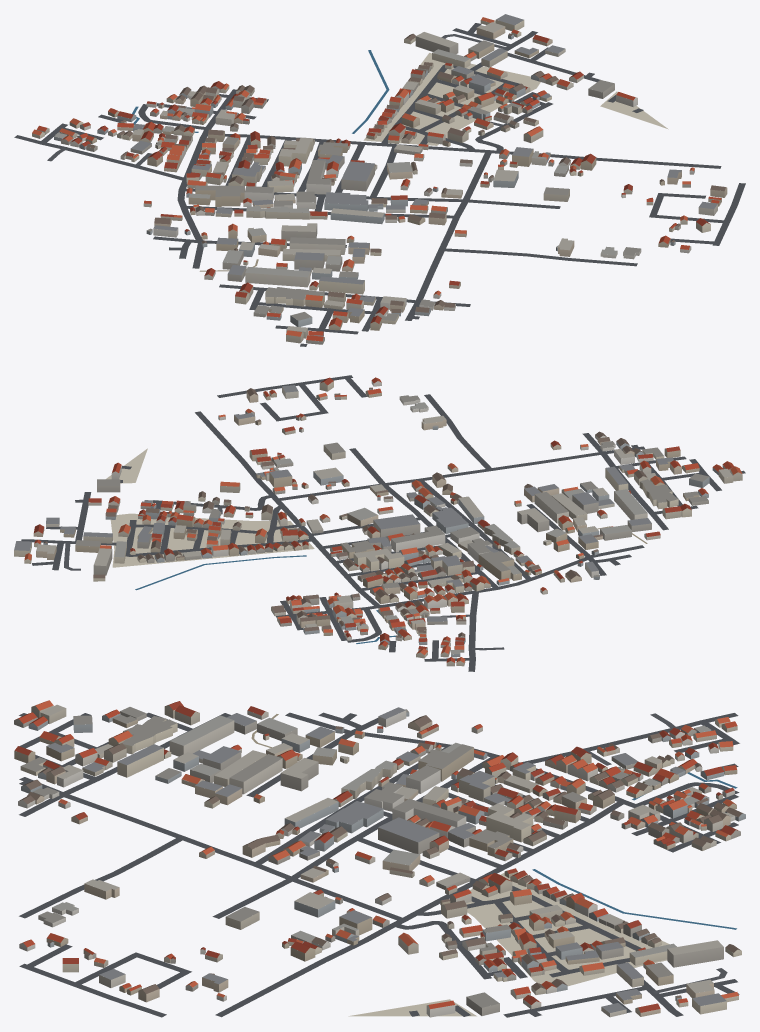
3 renders of one model, top to bottom at view 1: azimuth 30°, elevation 25°; view 2: azimuth 150°, elevation 25°; view 3: azimuth 270°, elevation 25°, orthographic. The views are drawn at different scales.
Parts seen in each view (by area): view 1: buildings_roofs, buildings_walls, roads, landuse; view 2: buildings_roofs, buildings_walls, roads, landuse; view 3: buildings_walls, buildings_roofs, roads, landuse, water.
Boxes of the visible parts, x1,y1,x2,y2 form: buildings_roofs: (32, 14, 725, 341); buildings_walls: (32, 20, 727, 344); roads: (14, 23, 745, 346); landuse: (363, 53, 668, 145); buildings_roofs: (14, 377, 742, 662); buildings_walls: (14, 381, 742, 666); roads: (21, 375, 745, 671); landuse: (106, 448, 314, 567); buildings_walls: (14, 705, 745, 1017); buildings_roofs: (15, 700, 743, 1012); roads: (19, 712, 739, 1017); landuse: (348, 872, 669, 1016); water: (532, 772, 737, 929).
Bounding box in the file's own units: 510 × 9.63 × 512.
